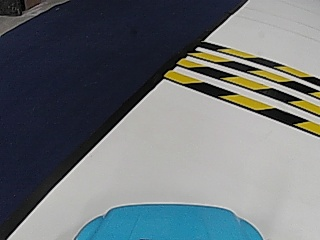bump: (194, 45, 309, 126)
